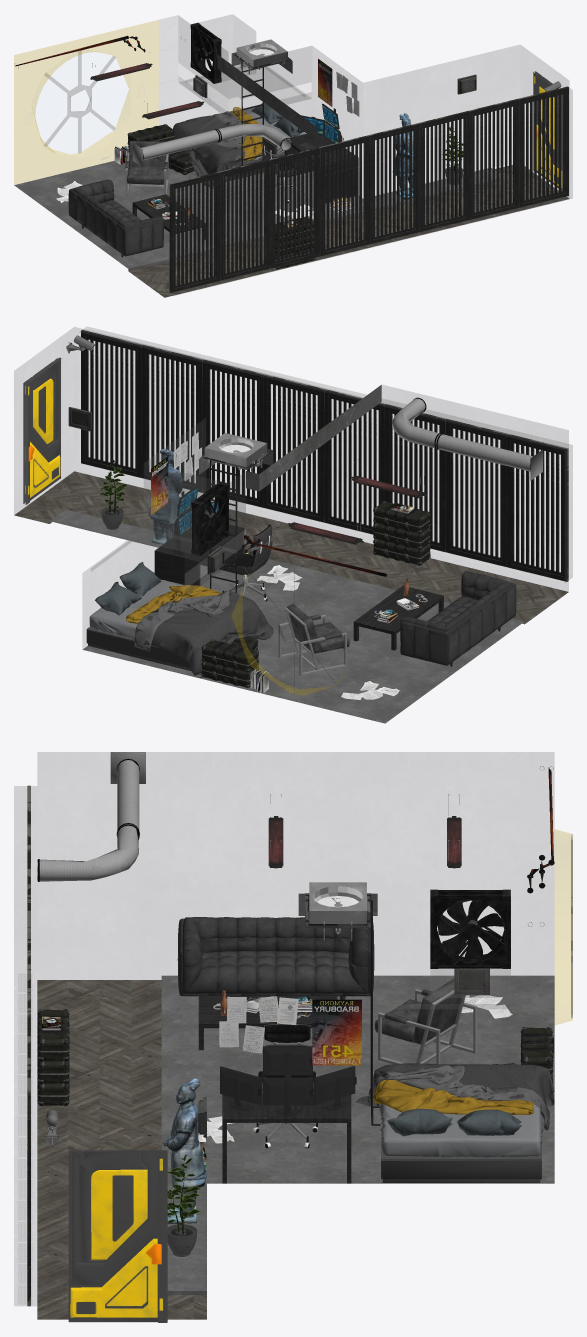
File: room.glb
3 renders of one model, top to bottom at view 1: azimuth 30°, elevation 25°; view 2: azimuth 150°, elevation 25°; view 3: azimuth 270°, elevation 25°, orthographic. The views are drawn at different scales.
Visible parts, largest first — view 1: DecorativePanels_DecorativePanels_0, Walls&Floors_low_Walls_0, Walls&Floors_low_Floor&Ceilling_0, BedPillows_BedFabrics_0, Sofa_Sofa_0, OfficeTable_Tables_0, AirPipe_AirPipe_0, Ammobox_AmmoBox_0, Door_low_Door_0, Books.001_Books_0, Ventilation_Ventilation_0, Airlock_Airlock_0 (+9 smaller); view 2: DecorativePanels_DecorativePanels_0, Walls&Floors_low_Walls_0, Walls&Floors_low_Floor&Ceilling_0, BedPillows_BedFabrics_0, Sofa_Sofa_0, Ammobox_AmmoBox_0, Door_low_Door_0, OfficeTable_Tables_0, AirPipe_AirPipe_0, Ventilation_Ventilation_0, Books.001_Books_0, Papers_Papers_0 (+11 smaller); view 3: Walls&Floors_low_Walls_0, Walls&Floors_low_Floor&Ceilling_0, Door_low_Door_0, BedPillows_BedFabrics_0, Sofa_Sofa_0, Monitor.001_Monitor&Mouse_0, AirPipe_AirPipe_0, OfficeTable_Tables_0, BedFrame_BedFrame_0, Ammobox_AmmoBox_0, Ventilation_Ventilation_0, Books.001_Books_0 (+12 smaller).
Part boxes in pixels (bbox=[...]): DecorativePanels_DecorativePanels_0: bbox=[169, 86, 568, 292]; Walls&Floors_low_Walls_0: bbox=[14, 14, 572, 295]; Walls&Floors_low_Floor&Ceilling_0: bbox=[14, 52, 569, 297]; BedPillows_BedFabrics_0: bbox=[173, 103, 305, 188]; Sofa_Sofa_0: bbox=[68, 179, 164, 257]; OfficeTable_Tables_0: bbox=[132, 134, 358, 239]; AirPipe_AirPipe_0: bbox=[133, 124, 292, 167]; Ammobox_AmmoBox_0: bbox=[127, 124, 315, 269]; Door_low_Door_0: bbox=[533, 71, 562, 190]; Books.001_Books_0: bbox=[114, 59, 354, 227]; Ventilation_Ventilation_0: bbox=[190, 22, 221, 83]; Airlock_Airlock_0: bbox=[233, 39, 291, 74]; DecorativePanels_DecorativePanels_0: bbox=[81, 330, 568, 581]; Walls&Floors_low_Walls_0: bbox=[14, 327, 572, 695]; Walls&Floors_low_Floor&Ceilling_0: bbox=[14, 385, 568, 723]; BedPillows_BedFabrics_0: bbox=[89, 562, 273, 678]; Sofa_Sofa_0: bbox=[400, 571, 516, 666]; Ammobox_AmmoBox_0: bbox=[201, 501, 430, 687]; Door_low_Door_0: bbox=[23, 358, 60, 504]; OfficeTable_Tables_0: bbox=[154, 524, 443, 650]; AirPipe_AirPipe_0: bbox=[392, 397, 542, 480]; Ventilation_Ventilation_0: bbox=[191, 481, 229, 556]; Books.001_Books_0: bbox=[151, 456, 419, 693]; Papers_Papers_0: bbox=[173, 432, 400, 699]; Walls&Floors_low_Walls_0: bbox=[14, 752, 572, 1322]; Walls&Floors_low_Floor&Ceilling_0: bbox=[37, 893, 554, 1319]; Door_low_Door_0: bbox=[68, 1150, 167, 1322]; BedPillows_BedFabrics_0: bbox=[356, 1063, 554, 1157]; Sofa_Sofa_0: bbox=[177, 917, 374, 999]; Monitor.001_Monitor&Mouse_0: bbox=[220, 1046, 356, 1115]; AirPipe_AirPipe_0: bbox=[37, 752, 145, 881]; OfficeTable_Tables_0: bbox=[198, 995, 351, 1183]; BedFrame_BedFrame_0: bbox=[381, 1109, 541, 1182]; Ammobox_AmmoBox_0: bbox=[37, 1009, 552, 1106]; Ventilation_Ventilation_0: bbox=[430, 889, 510, 968]; Books.001_Books_0: bbox=[42, 996, 553, 1169].
Bounding box in the file's own units: 9.07 × 2.94 × 6.24.
27 materials, 27 textured.
